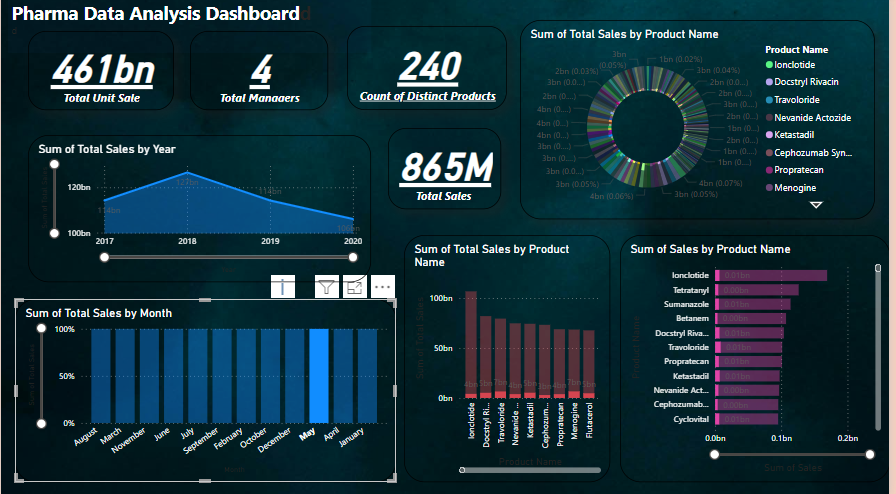

This screenshot's page, from the dashboard's own definition file:
{"tool":"powerbi","page":{"name":"Page 1","canvas":[1280,720],"ordinal":0},"visuals":[{"type":"textbox","box":[10.1,0,522.7,82.1],"z":0},{"type":"columnChart","fields":{"Category":["Pharma_data.Product Name"],"Y":["Sum(Pharma_data.Total Sales )"]},"box":[580.3,344.2,296.6,355.7],"z":1000},{"type":"donutChart","fields":{"Category":["Pharma_data.Product Name"],"Y":["Sum(Pharma_data.Total Sales )"]},"box":[747.4,34.6,511.2,286.6],"z":2000},{"type":"hundredPercentStackedColumnChart","fields":{"Y":["Sum(Pharma_data.Total Sales )"],"Category":["Pharma_data.Month"]},"box":[20.2,436.3,548.6,263.5],"z":3000},{"type":"clusteredBarChart","fields":{"Category":["Pharma_data.Product Name"],"Y":["Sum(Pharma_data.Sales)"]},"box":[891.4,344.2,388.8,355.7],"z":3001},{"type":"card","fields":{"Values":["Sum(Pharma_data.Total Sales )"]},"box":[38.9,50.4,210.2,113.8],"z":3002},{"type":"card","fields":{"Values":["Sum(Pharma_data.Sales)"]},"box":[557.3,190.1,162.7,116.6],"z":3003},{"type":"card","fields":{"Values":["Count(Pharma_data.Product Name)"]},"box":[498.2,43.2,230.4,121],"z":3004},{"type":"areaChart","fields":{"Category":["Pharma_data.Year"],"Y":["Sum(Pharma_data.Total Sales )"]},"box":[38.9,200.2,493.9,211.7],"z":3005},{"type":"card","fields":{"Values":["Count(Pharma_data.Manager)"]},"box":[272.2,50.4,198.7,113.8],"z":3006}]}

Visuals, with their boxes in screenshot pixels (x1, y1, x2, y2), scaled from the page's 1280x720 canvas onto the 896x494 screenshot:
textbox: 7/0/373/56
columnChart - Pharma_data.Product Name x Sum(Pharma_data.Total Sales ): 406/236/614/480
donutChart - Pharma_data.Product Name x Sum(Pharma_data.Total Sales ): 523/24/881/220
hundredPercentStackedColumnChart - Sum(Pharma_data.Total Sales ) x Pharma_data.Month: 14/299/398/480
clusteredBarChart - Pharma_data.Product Name x Sum(Pharma_data.Sales): 624/236/895/480
card - Sum(Pharma_data.Total Sales ): 27/35/174/113
card - Sum(Pharma_data.Sales): 390/130/504/210
card - Count(Pharma_data.Product Name): 349/30/510/113
areaChart - Pharma_data.Year x Sum(Pharma_data.Total Sales ): 27/137/373/283
card - Count(Pharma_data.Manager): 191/35/330/113
